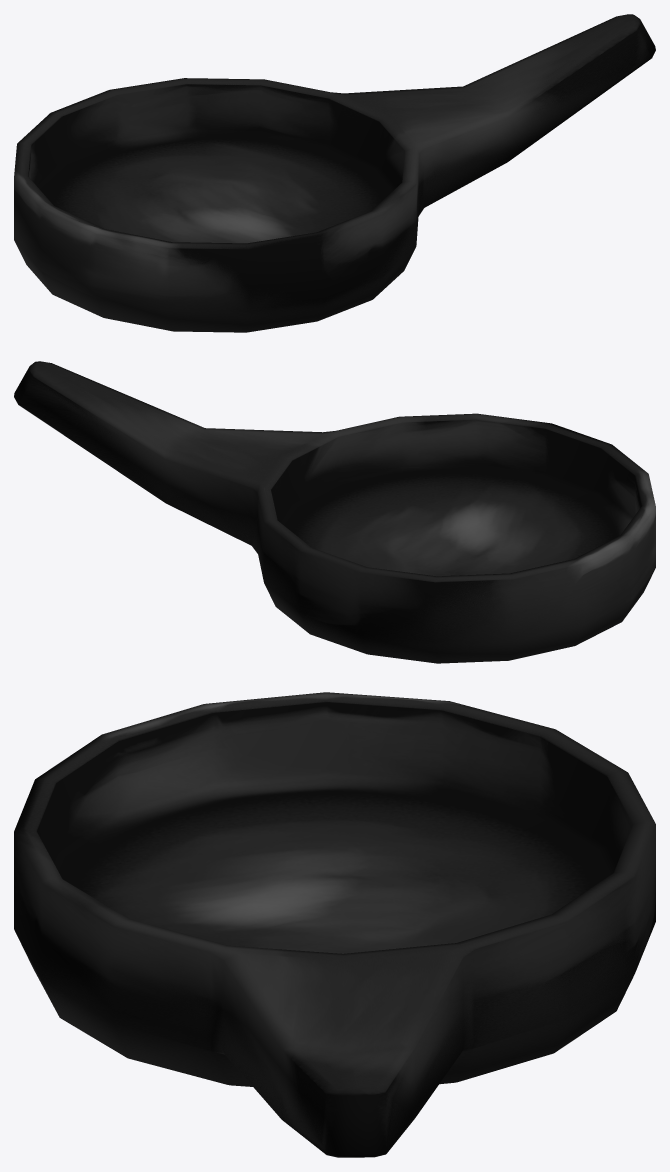
Rendered from Pan 2.fbx.
The picture shows the model from 3 angles, top to bottom: view 1: azimuth 30°, elevation 25°; view 2: azimuth 150°, elevation 25°; view 3: azimuth 270°, elevation 25°; orthographic projection. The views are drawn at different scales.
Visible parts, largest first — view 1: Pan 2; view 2: Pan 2; view 3: Pan 2.
Boxes of the visible parts, box(x1,y1,x2,y2) form: Pan 2: box(14, 14, 655, 332); Pan 2: box(14, 361, 655, 663); Pan 2: box(14, 692, 655, 1157).
Bounding box in the file's own units: 1.29 × 0.2725 × 0.7408.
